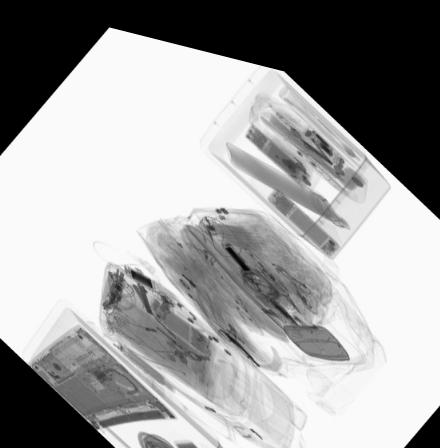Lighter: (274, 96, 312, 130)
